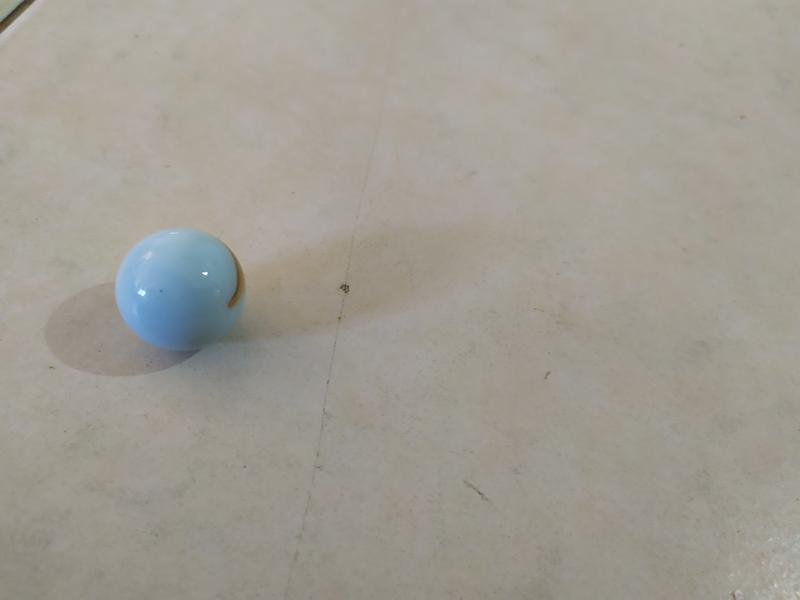Warning: (111, 224, 252, 356)
